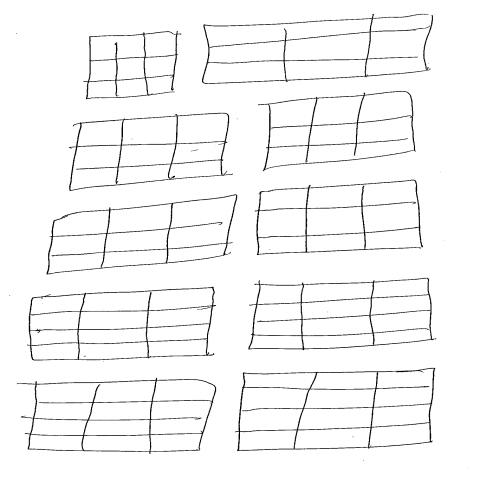Table: (235, 368, 436, 453), (201, 14, 434, 86), (45, 193, 238, 276), (28, 287, 217, 362), (28, 379, 219, 453), (247, 278, 434, 352), (68, 112, 232, 193), (256, 180, 425, 256), (263, 91, 416, 172), (84, 31, 180, 101)
